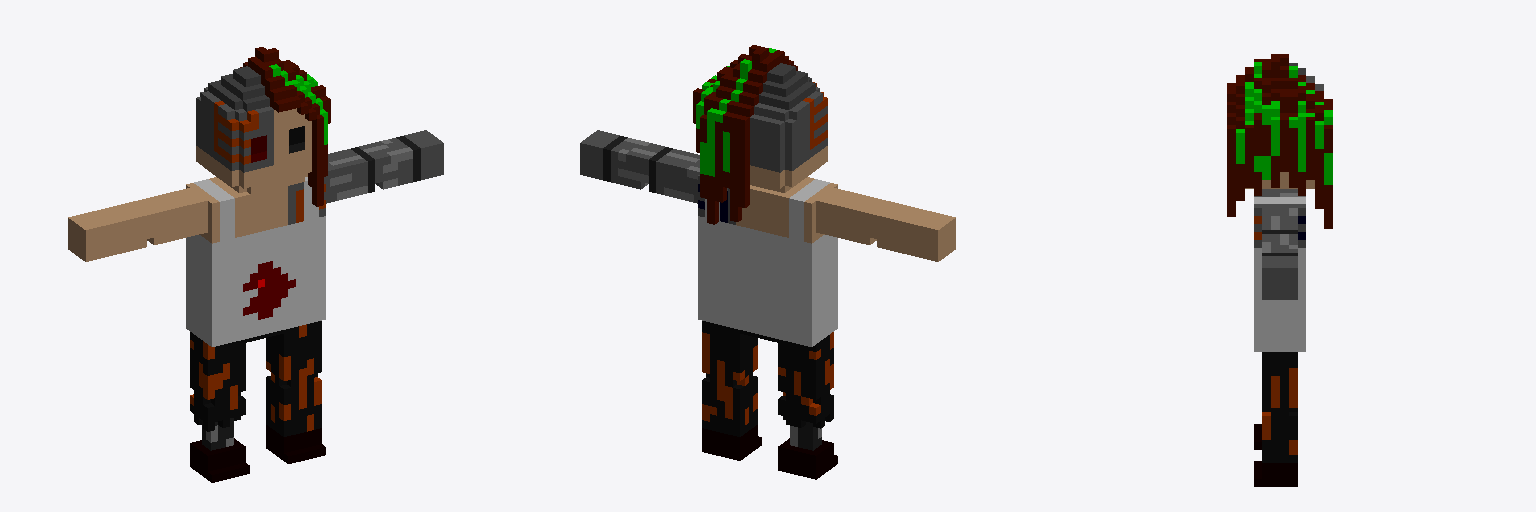
3 renders of one model, left to right at view 1: azimuth 30°, elevation 25°; view 2: azimuth 150°, elevation 25°; view 3: azimuth 270°, elevation 25°, orthographic.
Parts seen in each view (by area): view 1: object 1; view 2: object 1; view 3: object 1.
Part boxes in pixels (x1,y1,x2,y2): object 1: (68, 47, 443, 482); object 1: (580, 45, 955, 479); object 1: (1227, 54, 1332, 486).
Size of the model in its own units: 4.7 by 5.1 by 1.2.
1 materials, 1 textured.